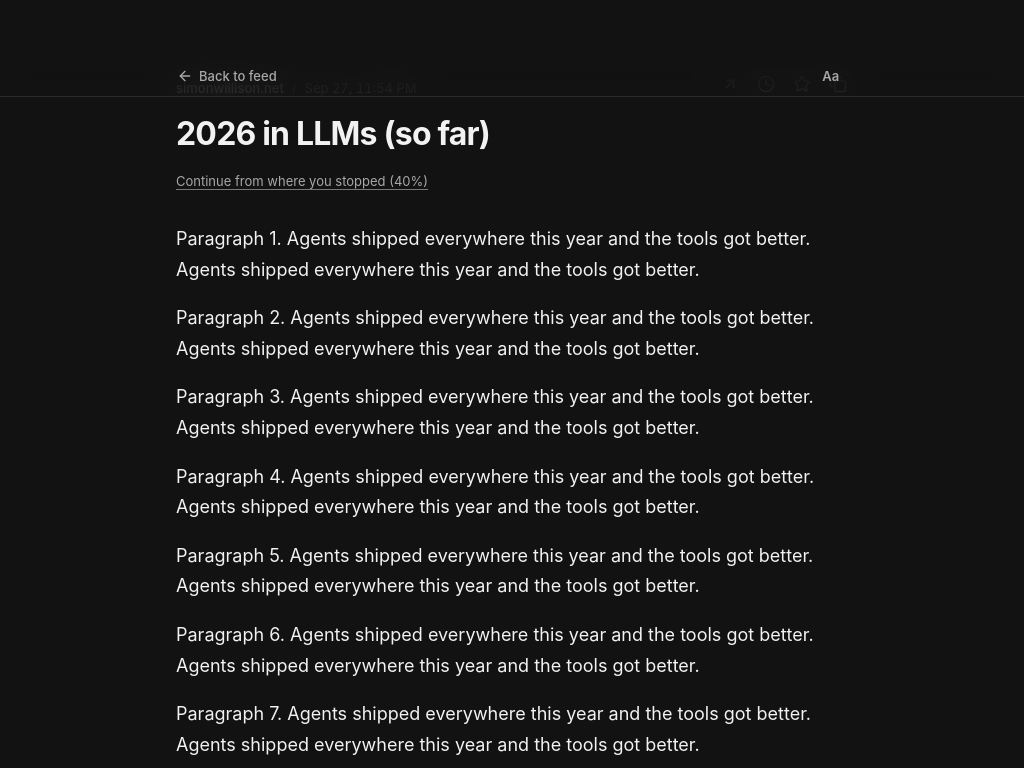
Test: PostDetailPage continue where I stopped (issue 0030) › offers to continue a long post left part way, and only scrolls when asked
Click the button "Continue from where you stopped (40%)" at (302, 181), box [176, 171, 428, 191]
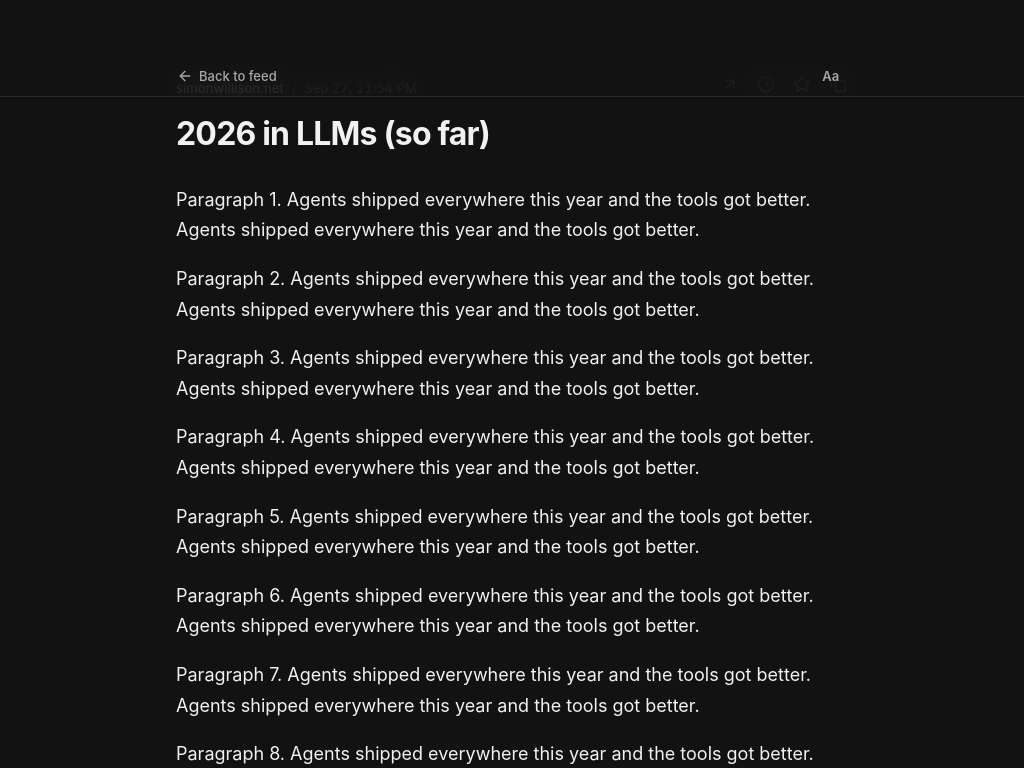
Check: the button "Continue from where you stopped" is gone
